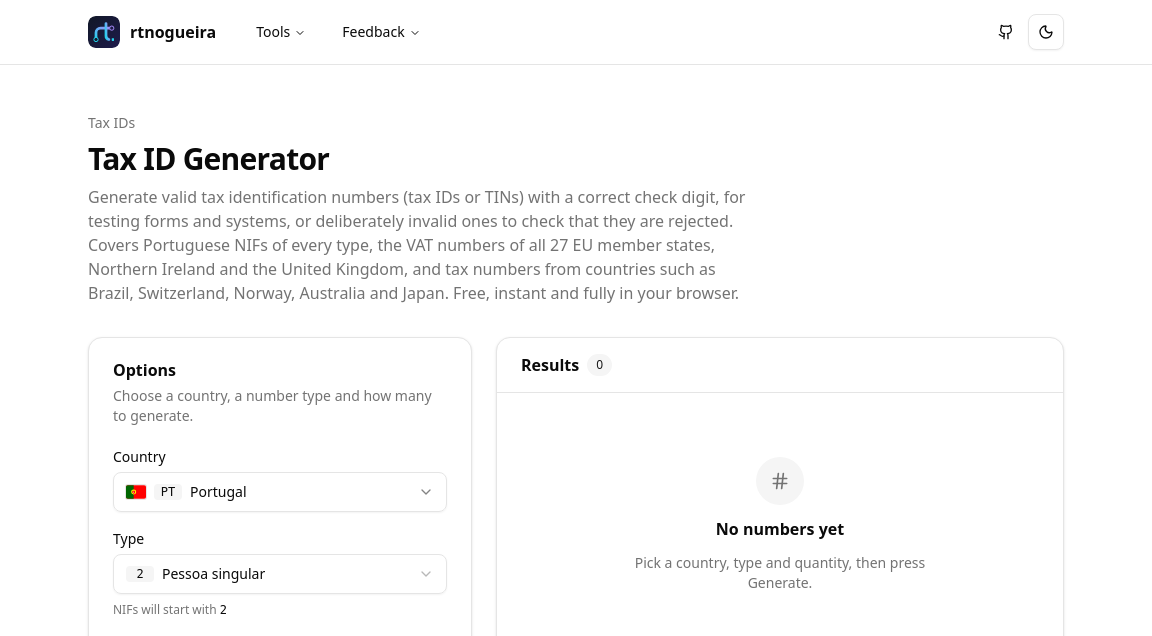
NIF generator page › selects the highlighted country with Enter without generating
Expected: the heading "Tax ID Generator" is shown, [88, 138, 329, 179]
Click the dropdown named "Country" at [218, 492], box [113, 472, 447, 512]
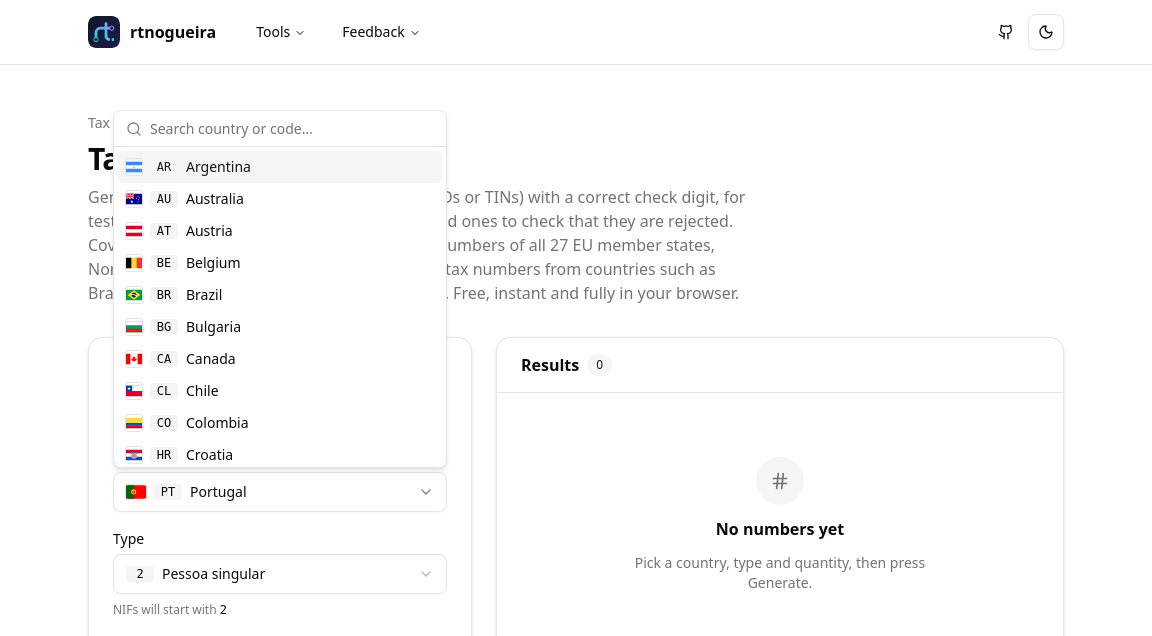
Type "brazil" into the dropdown named "Search countries" at [292, 128], box [150, 108, 434, 148]
Then press Enter
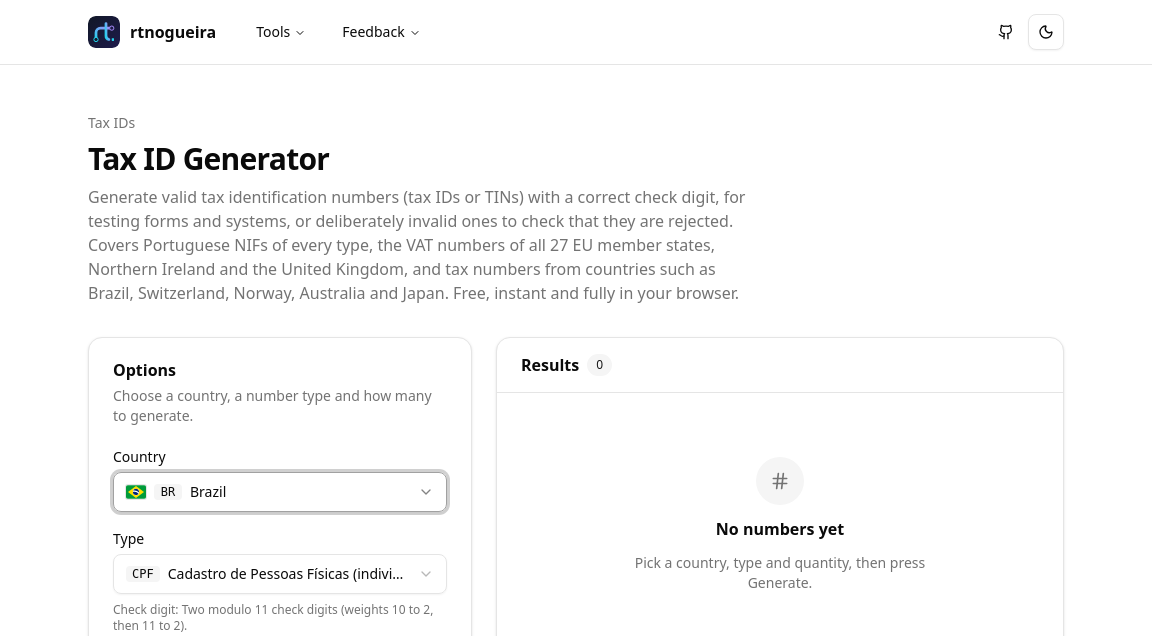
Now the dropdown named "Country" shows "Brazil", box [113, 472, 447, 512]
Now the option is gone
